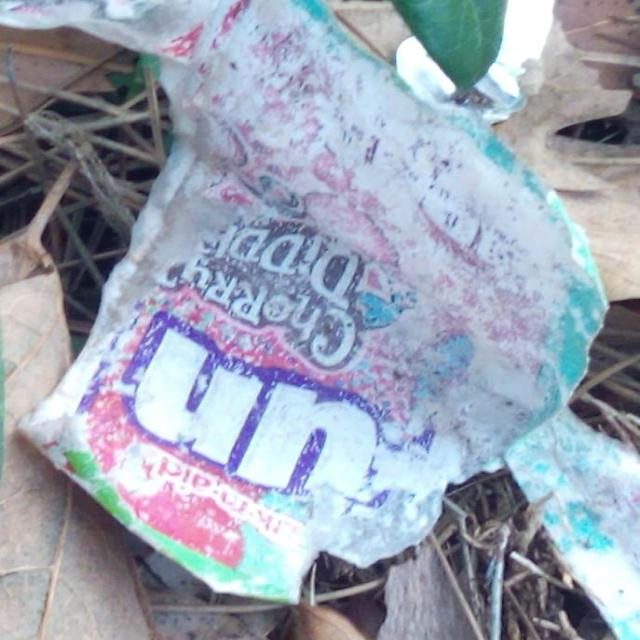litter: (7, 1, 592, 605)
